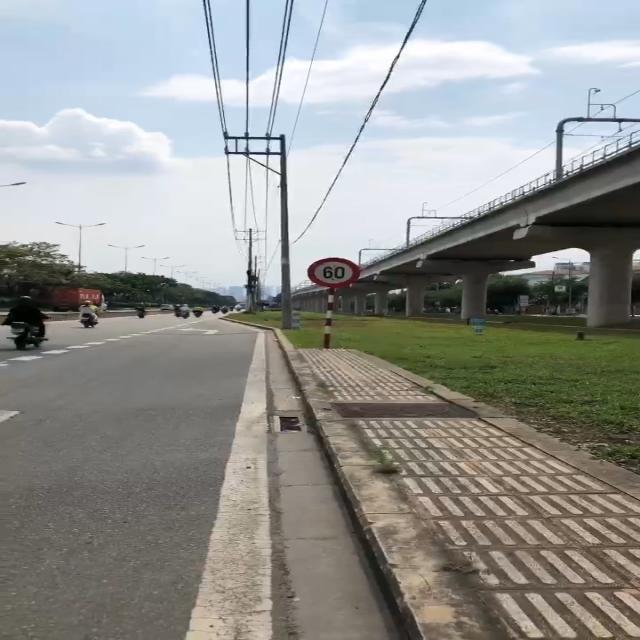Bien bao toc do toi da cho phep: (302, 254, 377, 291)
